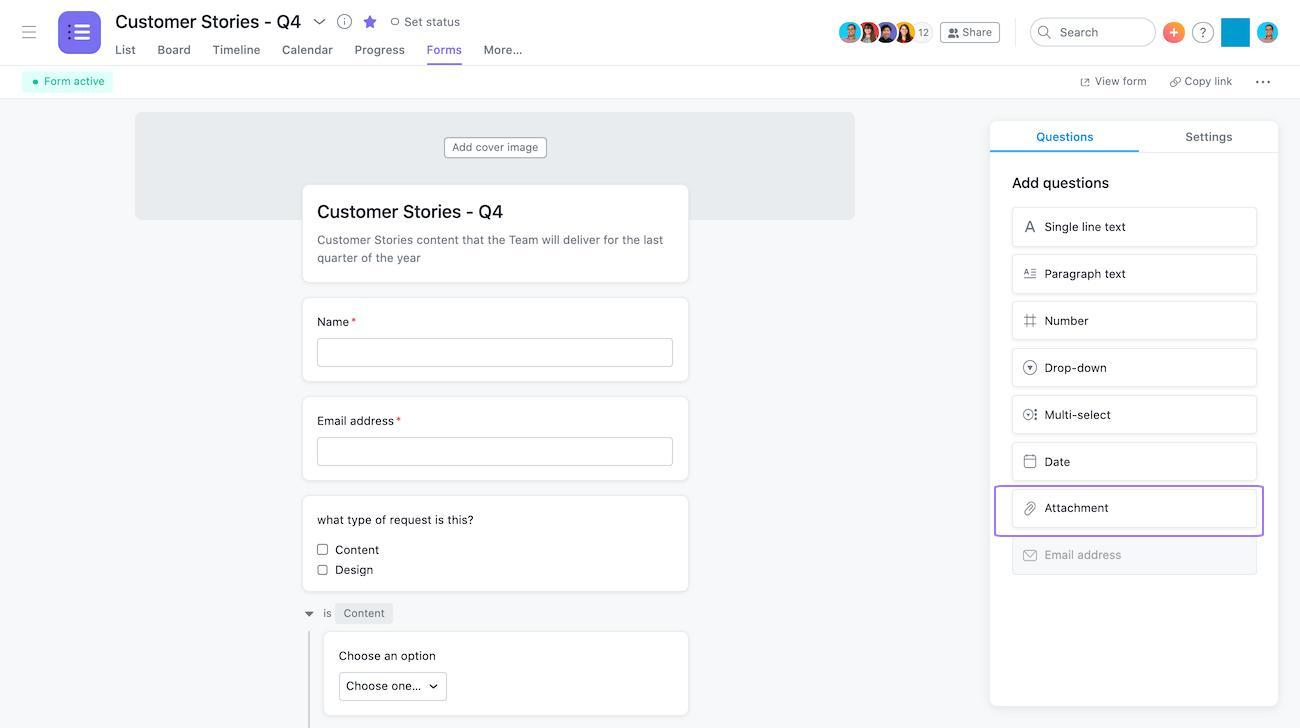button: (1012, 443, 1258, 484), (1014, 349, 1256, 389), (1015, 490, 1258, 529), (1013, 209, 1258, 247), (1014, 255, 1258, 293), (1014, 397, 1257, 435), (1015, 302, 1258, 339), (1014, 537, 1257, 574), (445, 138, 550, 158), (939, 21, 1002, 46), (335, 605, 394, 623)
checkbox: (318, 544, 330, 557), (317, 565, 330, 577)
dropdown: (339, 671, 449, 704)
icon: (360, 12, 381, 35), (1022, 264, 1041, 284), (1022, 454, 1041, 472), (1021, 547, 1041, 564), (21, 24, 39, 42), (1023, 312, 1040, 331), (1023, 454, 1040, 472), (1038, 23, 1054, 42), (1022, 501, 1039, 518), (1022, 408, 1040, 424), (1024, 359, 1039, 378), (1022, 501, 1039, 517), (946, 26, 962, 40), (1024, 220, 1038, 236), (1169, 76, 1182, 89), (1170, 27, 1181, 42), (1200, 26, 1210, 42), (1255, 80, 1273, 86)
input: (316, 338, 675, 370), (316, 436, 675, 468), (1031, 16, 1156, 48)
label: (315, 232, 667, 267), (319, 199, 507, 223), (316, 514, 476, 528), (1010, 177, 1112, 192), (316, 414, 402, 430), (337, 651, 437, 664), (1034, 131, 1095, 145), (354, 46, 408, 59), (1185, 131, 1235, 145), (210, 44, 263, 57), (280, 46, 336, 57), (1093, 76, 1149, 87), (335, 545, 382, 557), (1184, 76, 1235, 87), (317, 316, 359, 329), (424, 44, 465, 57), (485, 43, 525, 56), (157, 45, 193, 58), (335, 565, 377, 576), (114, 45, 138, 57)
